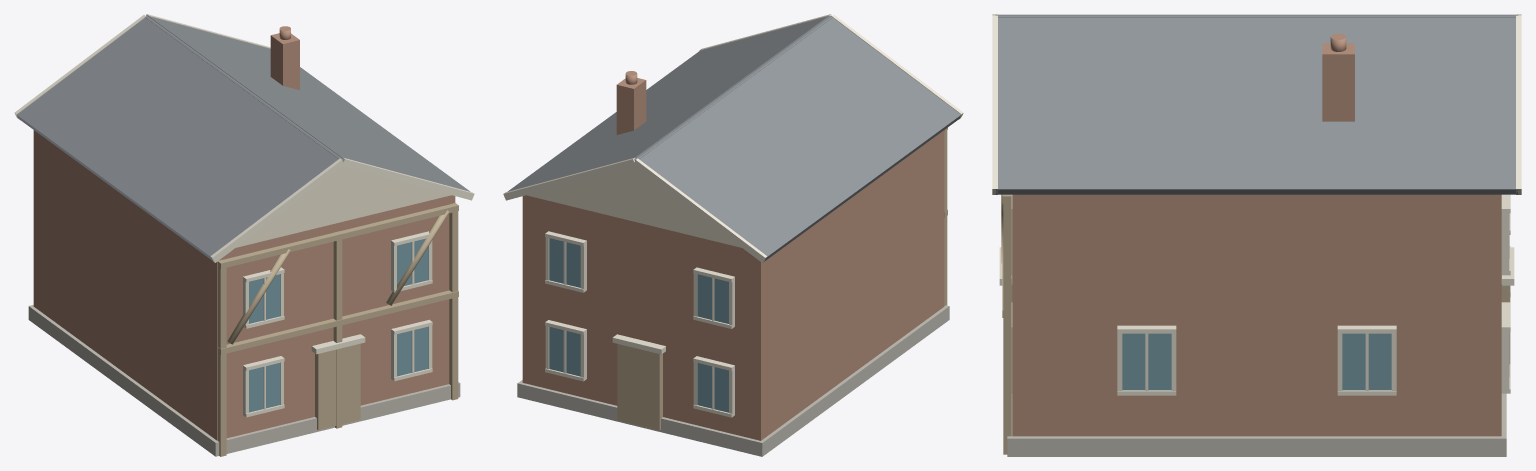
Rendered from tyne-half-timber_lod0.glb.
3 renders of one model, left to right at view 1: azimuth 30°, elevation 25°; view 2: azimuth 150°, elevation 25°; view 3: azimuth 270°, elevation 25°, orthographic. The views are drawn at different scales.
Visible parts, largest first — view 1: RF_Body, RF_Roof.001, RF_Roof, RF_Foundation, RF_Gable, RF_Door.001, RF_TimberBand, RF_TimberBand.001, RF_TimberPost.001, RF_TimberPost, RF_TimberPost.002, RF_Vergeband.001 (+11 smaller); view 2: RF_Body, RF_Roof.001, RF_Roof, RF_Foundation, RF_Gable.001, RF_Door, RF_Chimney, RF_Vergeband.002, RF_Window.006, RF_Window.008, RF_Window.005, RF_Window.007 (+5 smaller); view 3: RF_Body, RF_Roof, RF_Foundation, RF_Window.009, RF_Window, RF_Chimney, RF_TimberPost, RF_Ridge, RF_Vergeband.003, RF_Vergeband, RF_Roof.001, RF_WindowFrame.016 (+1 smaller).
Part boxes in pixels (x1,y1,x2,y2): RF_Body: (33,130,455,440); RF_Roof.001: (17,16,339,261); RF_Roof: (148,16,470,191); RF_Foundation: (28,305,460,456); RF_Gable: (236,166,451,247); RF_Door.001: (315,343,360,430); RF_TimberBand: (217,203,458,268); RF_TimberBand.001: (217,290,458,354); RF_TimberPost.001: (217,259,226,456); RF_TimberPost: (449,203,458,400); RF_TimberPost.002: (333,231,342,428); RF_Vergeband.001: (210,158,344,262); RF_Body: (522,130,944,440); RF_Roof.001: (638,17,960,261); RF_Roof: (507,16,829,191); RF_Foundation: (517,305,949,456); RF_Gable.001: (527,166,741,247); RF_Door: (617,344,662,430); RF_Chimney: (616,78,646,134); RF_Vergeband.002: (633,158,767,262); RF_Window.006: (697,274,728,323); RF_Window.008: (549,238,580,287); RF_Window.005: (697,363,728,412); RF_Window.007: (549,326,580,376); RF_Body: (1012,194,1501,436); RF_Roof: (996,16,1517,194); RF_Foundation: (1007,393,1506,456); RF_Window.009: (1122,333,1171,390); RF_Window: (1342,333,1391,390); RF_Chimney: (1322,43,1354,121); RF_TimberPost: (1003,194,1011,454); RF_Ridge: (995,15,1518,17); RF_Vergeband.003: (992,15,997,194); RF_Vergeband: (1516,15,1521,194); RF_Roof.001: (996,14,1517,15); RF_WindowFrame.016: (1501,207,1509,275).
Bounding box in the file's own units: 9.91 × 10.47 × 12.98.
